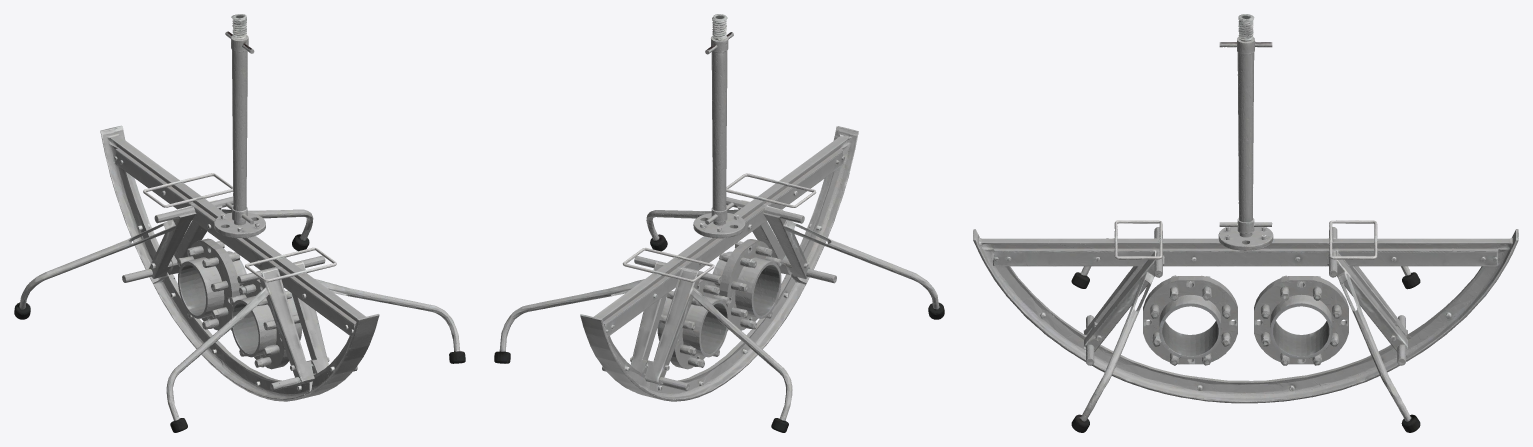
Rendered from r-zs-1800-machinery-model.glb.
3 renders of one model, left to right at view 1: azimuth 30°, elevation 25°; view 2: azimuth 150°, elevation 25°; view 3: azimuth 270°, elevation 25°, orthographic. The views are drawn at different scales.
Parts seen in each view (by area): view 1: tripo_node_dadcb7ff-b5d0-443c-b724-c39465712b30; view 2: tripo_node_dadcb7ff-b5d0-443c-b724-c39465712b30; view 3: tripo_node_dadcb7ff-b5d0-443c-b724-c39465712b30.
Boxes of the visible parts, box(x1,y1,x2,y2) form: tripo_node_dadcb7ff-b5d0-443c-b724-c39465712b30: box(14, 14, 465, 432); tripo_node_dadcb7ff-b5d0-443c-b724-c39465712b30: box(494, 14, 944, 432); tripo_node_dadcb7ff-b5d0-443c-b724-c39465712b30: box(973, 14, 1518, 432).
Size of the model in its own units: 0.6531 by 0.7714 by 0.9997.
Materials: 1 (1 with a texture image).
